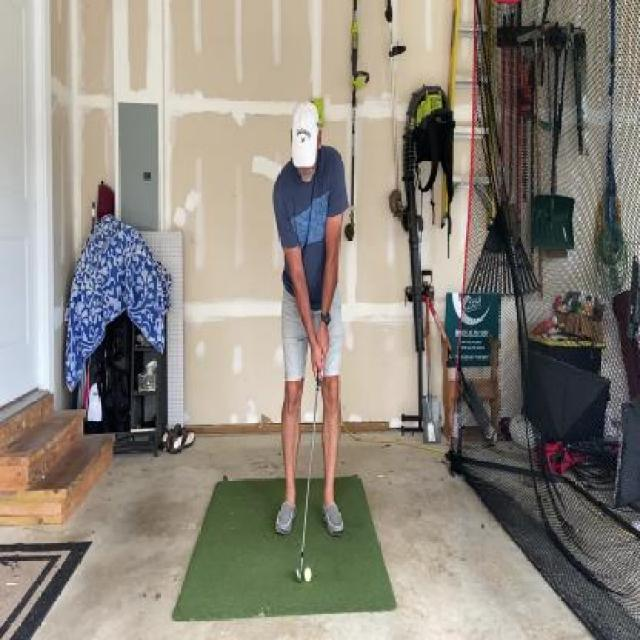club head: (296, 551, 304, 583)
